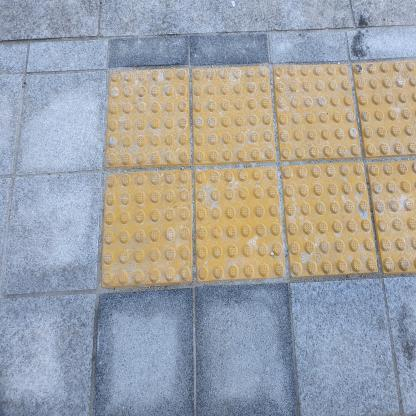podotacti: (97, 54, 416, 294)
